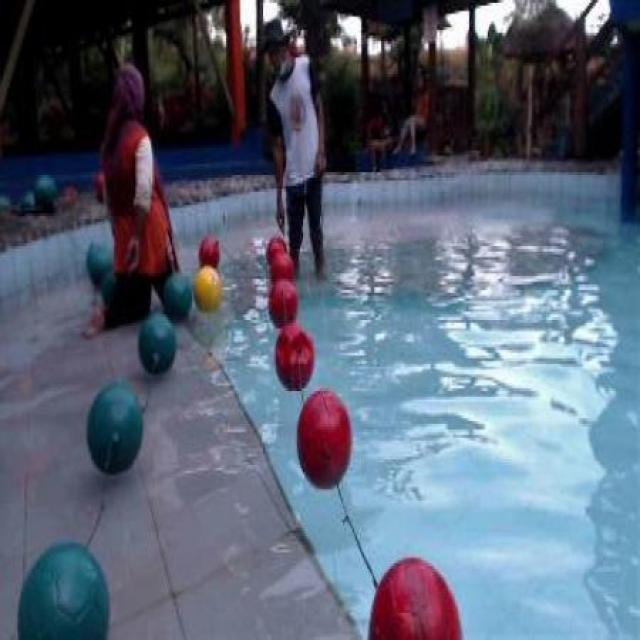buoy: (16, 540, 110, 636), (366, 555, 462, 637), (294, 386, 352, 490), (86, 384, 142, 475), (274, 321, 314, 390), (138, 311, 176, 373), (266, 278, 297, 328), (162, 272, 192, 318), (192, 264, 220, 311), (270, 249, 293, 287), (90, 249, 113, 281), (264, 235, 286, 268), (199, 235, 219, 268)
